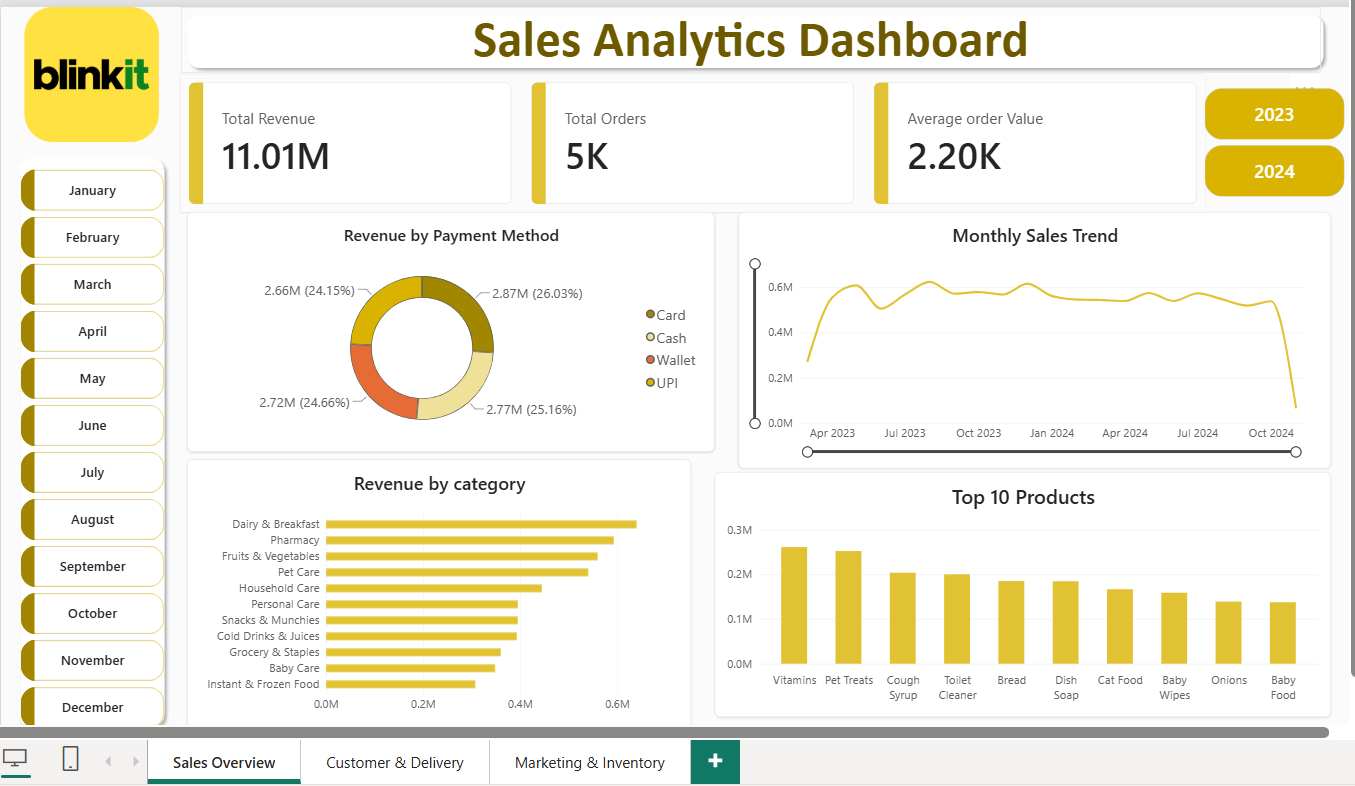

Layout of this report page (visuals, bound fields, positions):
{"tool":"powerbi","page":{"name":"Sales Overview","canvas":[1920,1080],"ordinal":0},"visuals":[{"type":"image","box":[0,0,254.4,189.5],"z":0},{"type":"cardVisual","fields":{"Data":["Sum(public order_items.order_total)","CountNonNull(public order_items.order_id)","Avg(public order_items.order_total)"]},"box":[252.6,94.7,1436.8,193],"z":1000},{"type":"lineChart","title":"Monthly Sales Trend","fields":{"Y":["Sum(public order_items.order_total)"],"Category":["public order_items.order_date.Variation.Date Hierarchy.Year","public order_items.order_date.Variation.Date Hierarchy.Month"]},"box":[1035.1,287.7,831.6,359.6],"z":2000},{"type":"donutChart","title":"Revenue by Payment Method","fields":{"Category":["public order_items.payment_method"],"Y":["Sum(public order_items.order_total)"]},"box":[261.4,287.7,740.4,336.8],"z":3000},{"type":"barChart","title":"Revenue by category","fields":{"Y":["public orders.Product Revenue"],"Category":["public products.category"]},"box":[261.4,635.1,707,377.2],"z":4000},{"type":"columnChart","title":"Top 10 Products","fields":{"Category":["public products.product_name"],"Y":["public orders.Product Revenue"]},"box":[1001.8,652.6,864.9,343.9],"z":5000},{"type":"shape","box":[252.6,1.8,1612.3,93],"z":6000},{"type":"shape","box":[15.8,203.5,222.8,815.8],"z":7000},{"type":"advancedSlicerVisual","fields":{"Values":["public order_items.order_date.Variation.Date Hierarchy.Month"]},"box":[28.1,228.1,201.8,791.2],"z":8000},{"type":"textbox","box":[252.6,0,1600,93],"z":9000},{"type":"advancedSlicerVisual","fields":{"Values":["public order_items.order_date.Variation.Date Hierarchy.Year"]},"box":[1689.5,114,196.5,152.6],"z":10000}]}

Visuals, with their boxes on the page's 1920x1080 design canvas (x1, y1, x2, y2). These are canvas units, not pixel positions in the 1355x786 screenshot, which may show the page scaled, cropped or inside an application window:
image: <box>0,0,254,190</box>
cardVisual - Sum(public order_items.order_total) x CountNonNull(public order_items.order_id): <box>253,95,1689,288</box>
"Monthly Sales Trend" lineChart: <box>1035,288,1867,647</box>
"Revenue by Payment Method" donutChart: <box>261,288,1002,624</box>
"Revenue by category" barChart: <box>261,635,968,1012</box>
"Top 10 Products" columnChart: <box>1002,653,1867,996</box>
shape: <box>253,2,1865,95</box>
shape: <box>16,204,239,1019</box>
advancedSlicerVisual - public order_items.order_date.Variation.Date Hierarchy.Month: <box>28,228,230,1019</box>
textbox: <box>253,0,1853,93</box>
advancedSlicerVisual - public order_items.order_date.Variation.Date Hierarchy.Year: <box>1690,114,1886,267</box>
